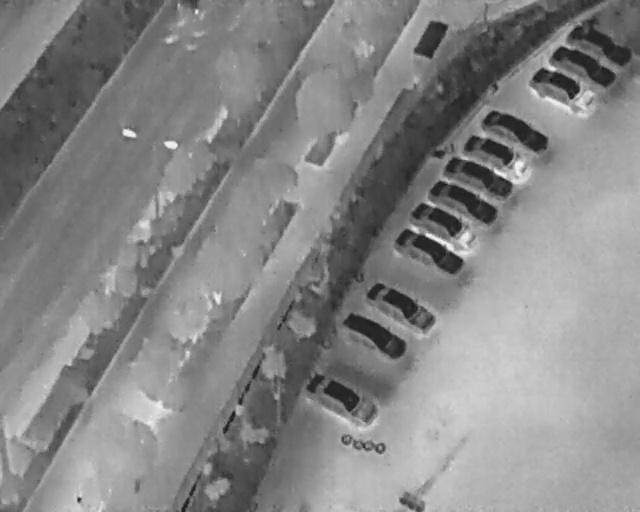Car: (296, 364, 383, 429), (360, 273, 442, 339), (335, 303, 415, 367), (521, 59, 601, 123), (439, 146, 521, 208), (390, 221, 469, 284), (477, 101, 557, 160), (426, 171, 503, 232), (544, 35, 622, 95), (407, 193, 482, 254), (562, 14, 639, 72), (457, 127, 536, 183)
